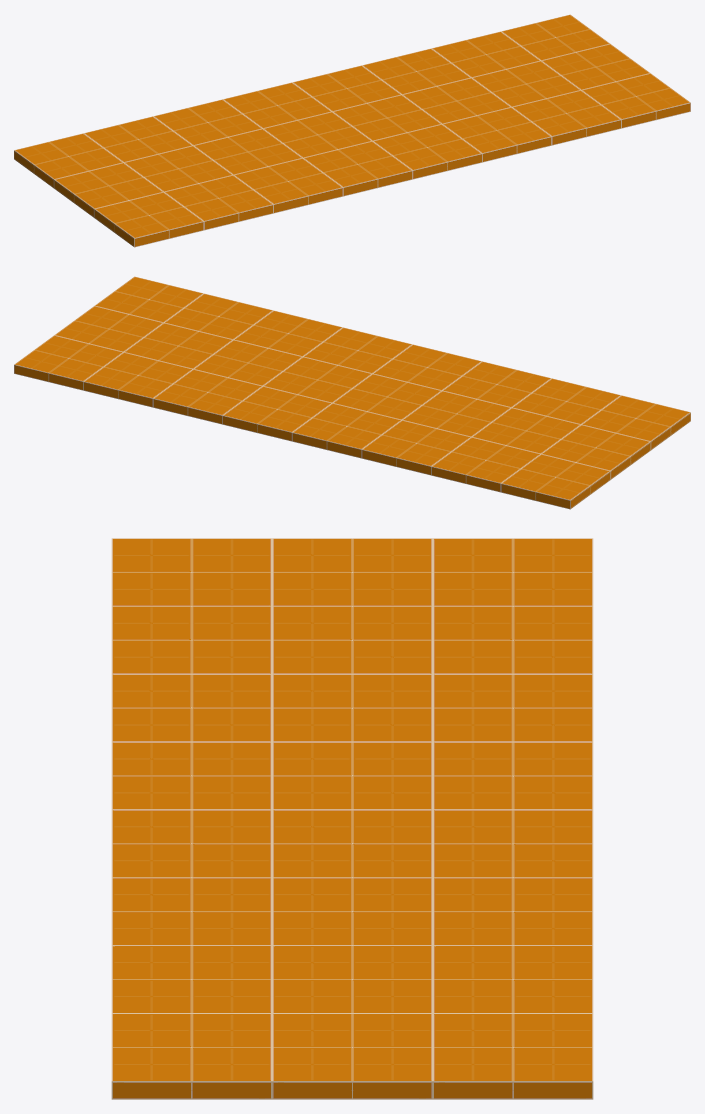
The model's file is Plate8_8x3.obj.
The picture shows the model from 3 angles, top to bottom: view 1: azimuth 30°, elevation 25°; view 2: azimuth 150°, elevation 25°; view 3: azimuth 270°, elevation 25°; orthographic projection. The views are drawn at different scales.
Parts seen in each view (by area): view 1: Plate8_8x3_Cube.400; view 2: Plate8_8x3_Cube.400; view 3: Plate8_8x3_Cube.400.
Part boxes in pixels (box(x1,y1,x2,y2)): Plate8_8x3_Cube.400: box(14, 14, 690, 247); Plate8_8x3_Cube.400: box(14, 276, 690, 509); Plate8_8x3_Cube.400: box(111, 538, 593, 1099).
Bounding box in the file's own units: 8 × 0.125 × 3.
Materials: 1 (1 with a texture image).
